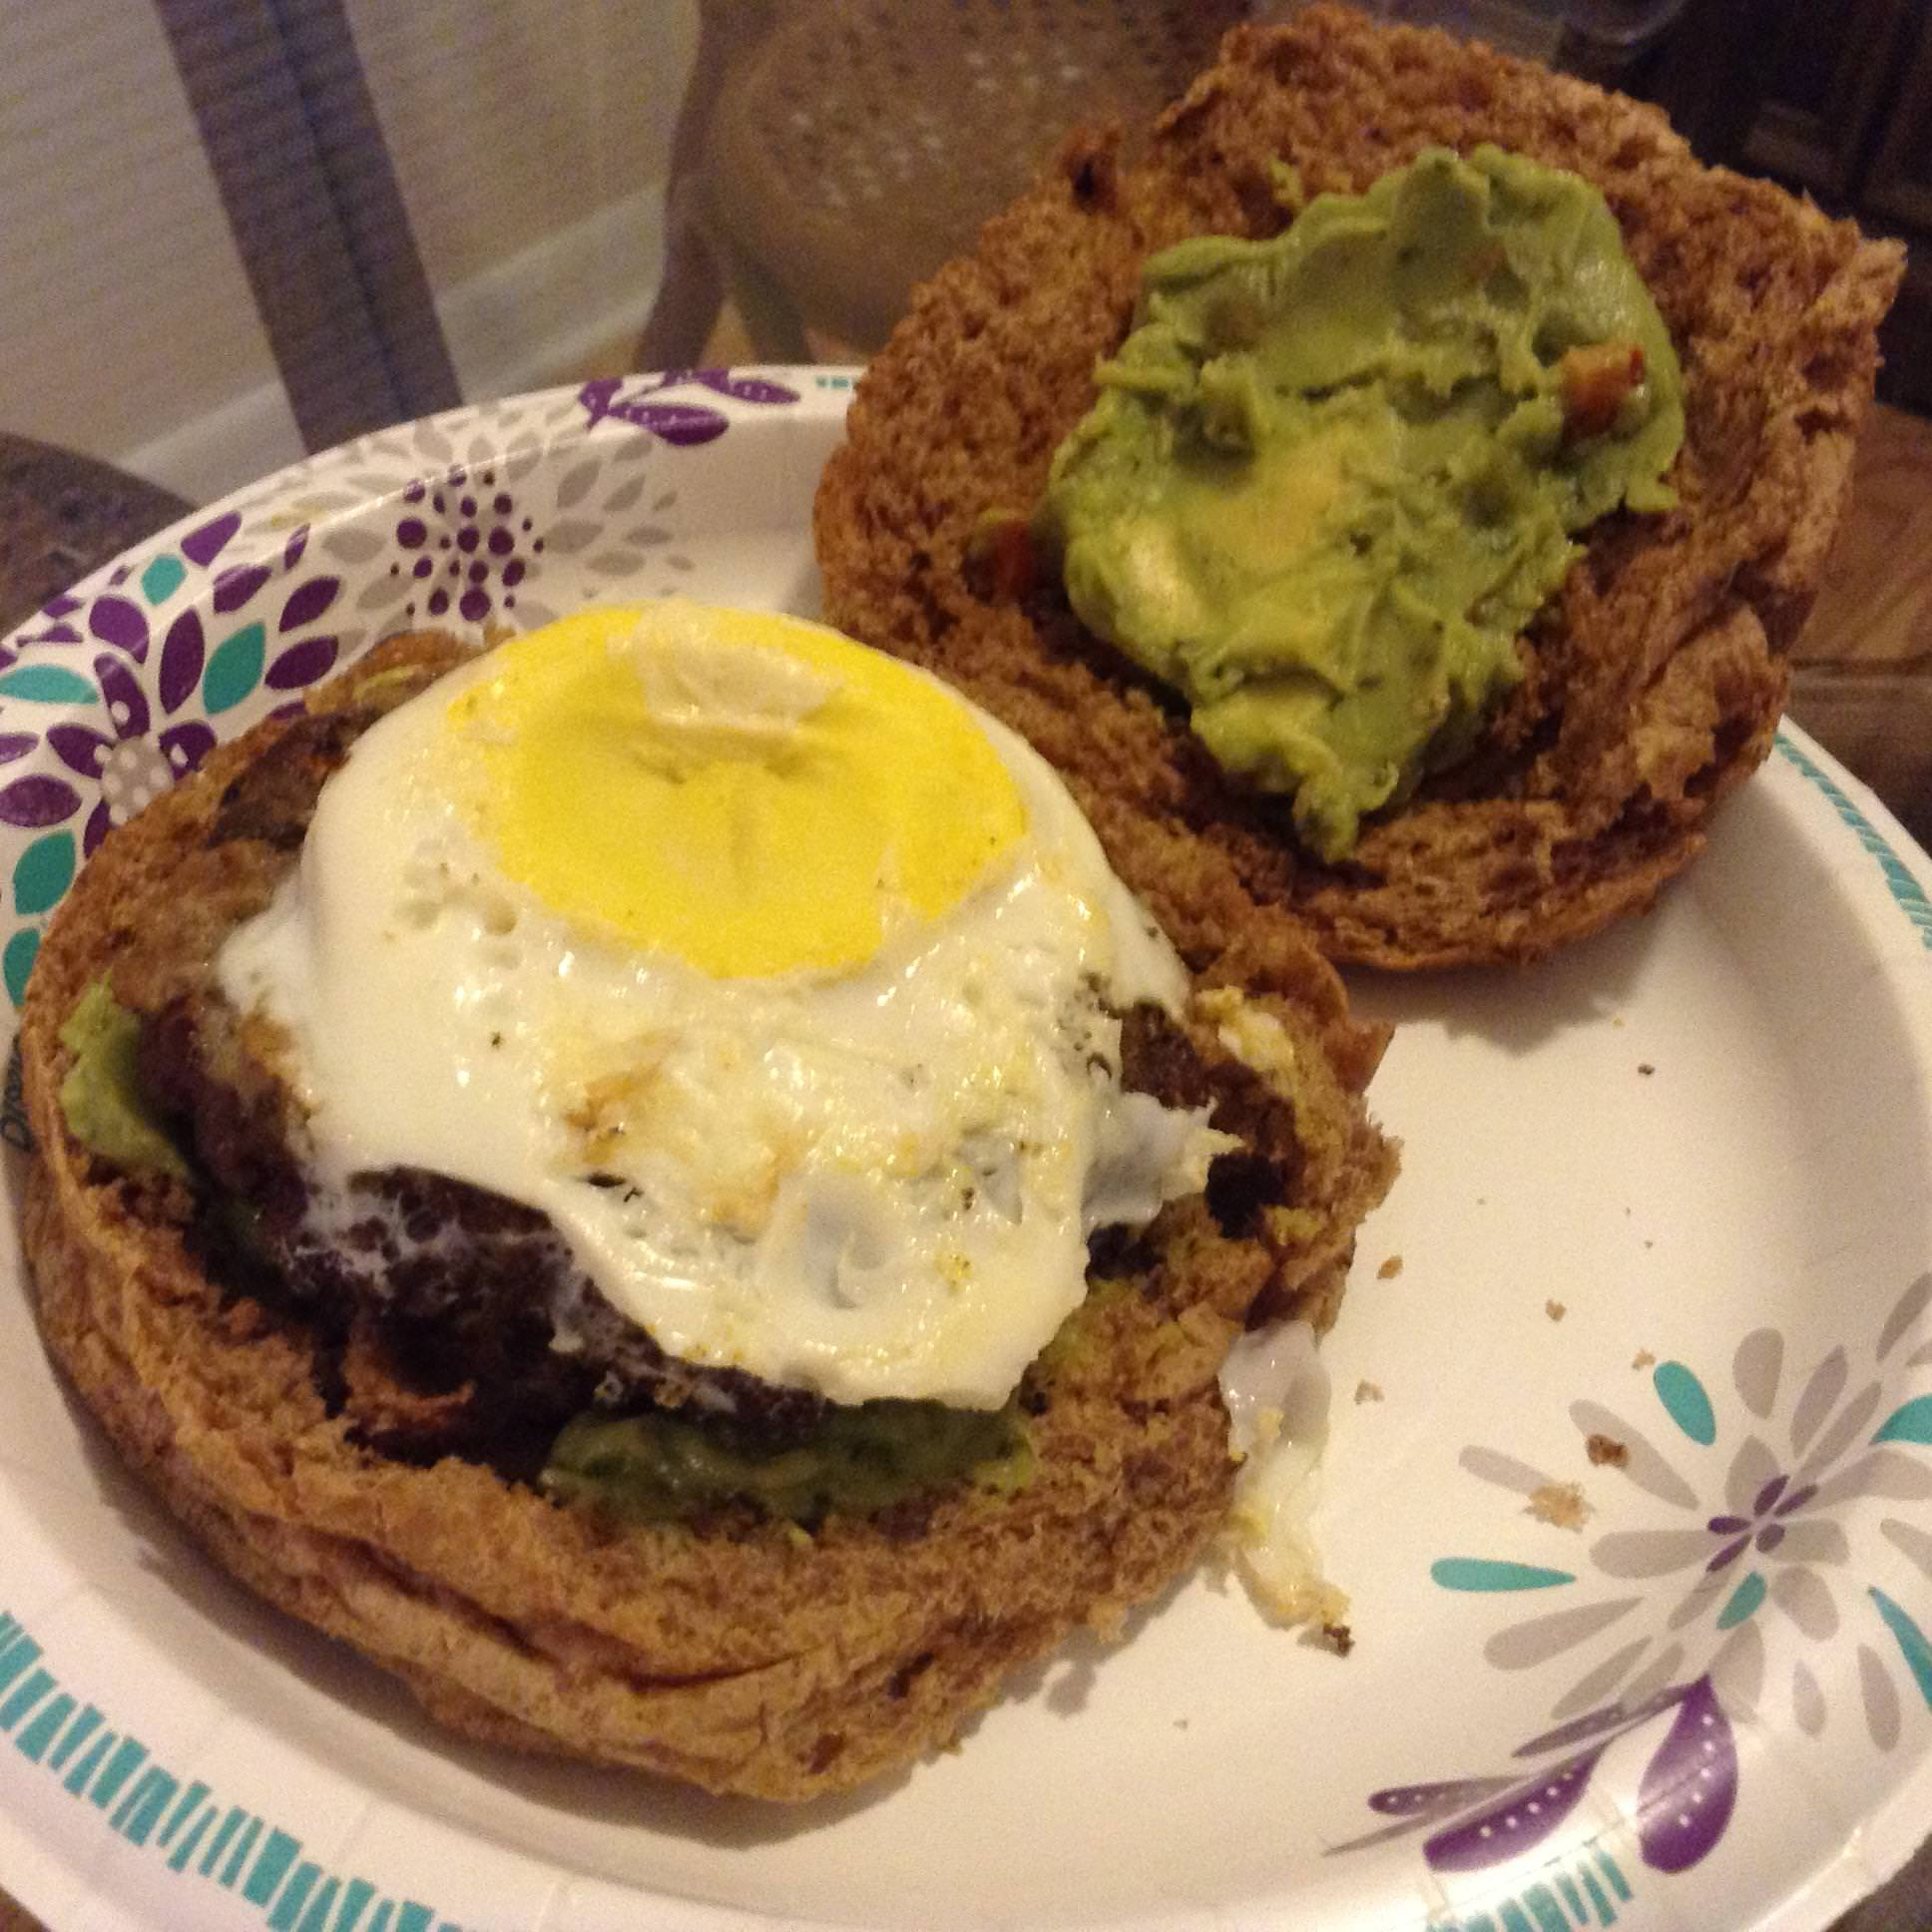fried egg: (278, 621, 1053, 1304)
slice of bread: (830, 14, 1822, 955), (265, 1389, 1320, 1727), (27, 766, 377, 1626)
